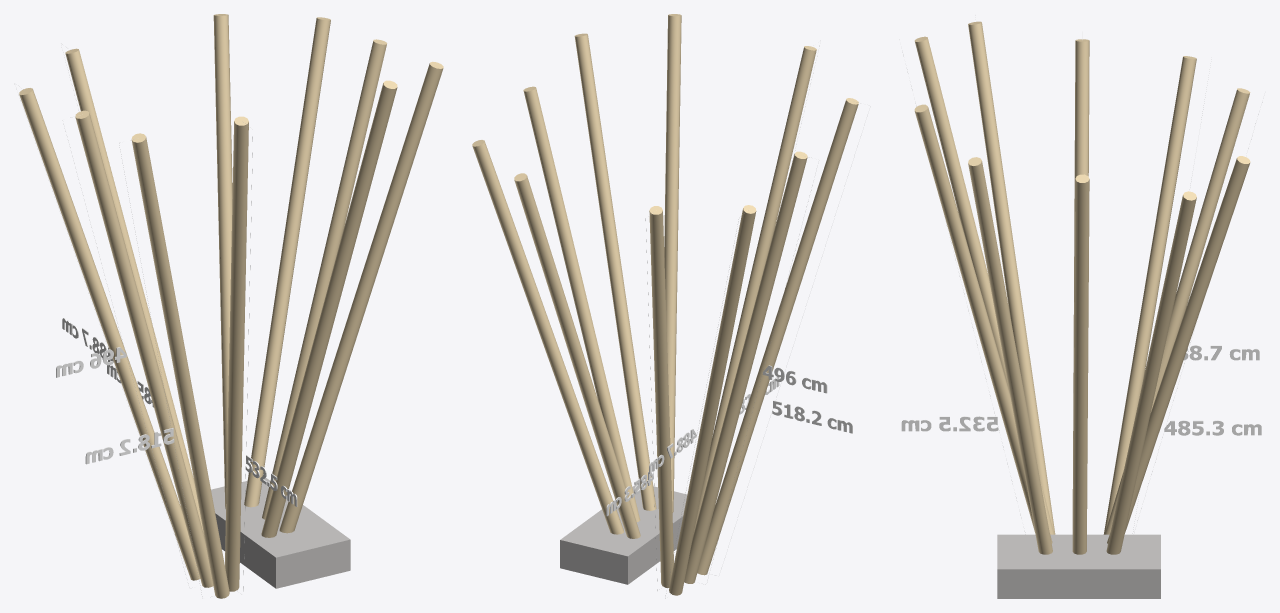
3 renders of one model, left to right at view 1: azimuth 30°, elevation 25°; view 2: azimuth 150°, elevation 25°; view 3: azimuth 270°, elevation 25°, orthographic. The views are drawn at different scales.
Parts seen in each view (by area): view 1: Group4, Group7, Group5, Group3, Group12, Group2, Group8, Group9, Group6, Group11, Group10, G_518_2_cm1 (+2 smaller); view 2: Group2, Group7, Group3, Group12, Group5, Group4, Group6, Group9, Group11, Group10, Group8, G_518_2_cm1 (+1 smaller); view 3: Group12, Group2, Group4, Group7, Group6, Group9, Group5, Group11, Group8, Group10, Group3, G_532_5_cm1 (+2 smaller).
Boxes of the visible parts, x1,y1,x2,y2 form: Group4: [19, 88, 200, 580]; Group7: [279, 61, 443, 533]; Group5: [244, 17, 330, 507]; Group3: [75, 110, 213, 587]; Group12: [211, 478, 350, 588]; Group2: [131, 133, 229, 598]; Group8: [225, 116, 248, 591]; Group9: [261, 80, 397, 537]; Group6: [262, 39, 387, 519]; Group11: [213, 14, 232, 508]; Group10: [65, 48, 203, 534]; G_518_2_cm1: [85, 428, 174, 464]; Group2: [697, 98, 858, 575]; Group7: [574, 33, 656, 510]; Group3: [684, 151, 807, 583]; Group12: [560, 483, 687, 584]; Group5: [472, 140, 623, 534]; Group4: [669, 205, 756, 595]; Group6: [523, 86, 640, 522]; Group9: [664, 14, 681, 512]; Group11: [514, 173, 640, 538]; Group10: [649, 206, 673, 587]; Group8: [693, 46, 816, 533]; G_518_2_cm1: [772, 400, 852, 433]; Group12: [997, 534, 1160, 598]; Group2: [968, 21, 1055, 534]; Group4: [1103, 56, 1196, 534]; Group7: [968, 157, 1052, 554]; Group6: [1072, 174, 1089, 554]; Group9: [914, 104, 1052, 543]; Group5: [1106, 191, 1196, 554]; Group11: [1107, 156, 1250, 543]; Group8: [914, 36, 1054, 534]; Group10: [1105, 88, 1250, 534]; Group3: [1072, 39, 1089, 528]; G_532_5_cm1: [901, 416, 998, 431].
Size of the model in its own units: 334 by 522 by 336.
